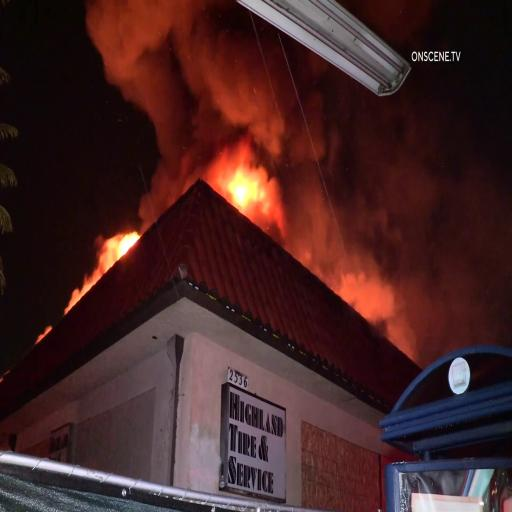fire: (231, 165, 262, 213)
smoke: (348, 134, 503, 298), (108, 0, 228, 124)
